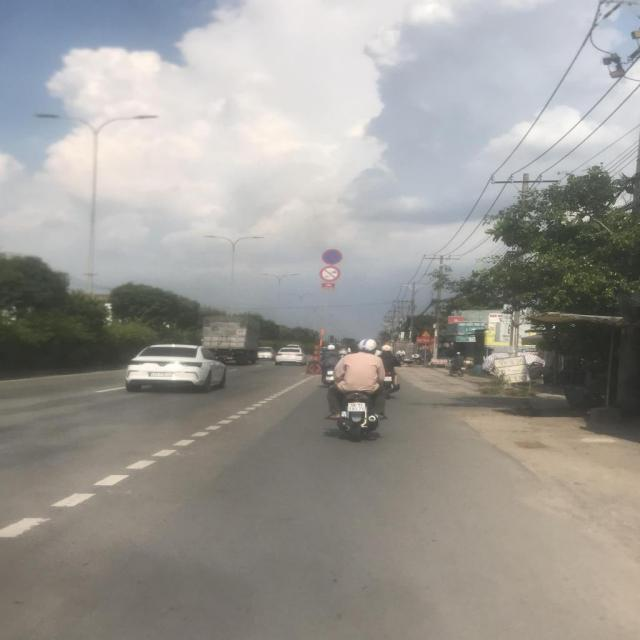cam_dung_xe_va_do_xe: (322, 250, 342, 266)
cam_xe_2_banh_va_xe_3_banh_co_dong_co: (320, 266, 340, 282)
di_cham: (421, 330, 431, 337)
